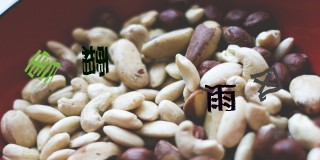雨: (203, 83, 240, 113)
雪: (25, 49, 60, 84)
霜: (80, 44, 112, 78)
风: (251, 66, 284, 102)
